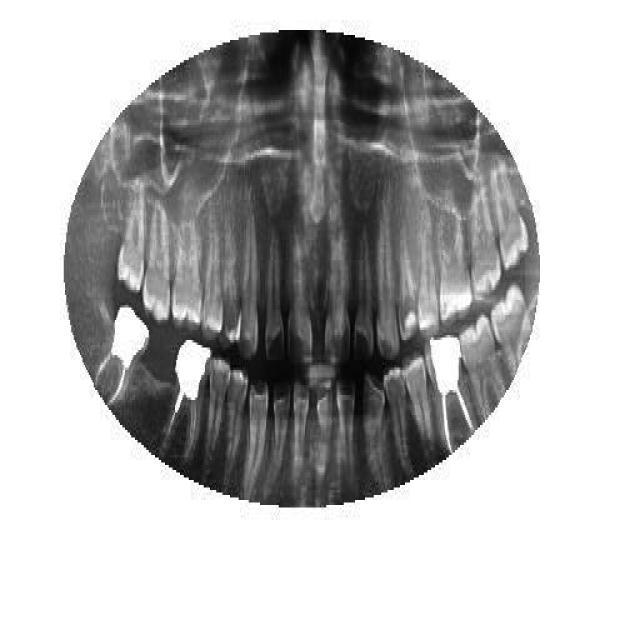dentin-curugu: (260, 323, 286, 363), (365, 377, 380, 417), (355, 326, 372, 353)
dolgu: (100, 291, 154, 374), (422, 324, 470, 406), (169, 329, 212, 403)
kanal-tedavisi: (424, 382, 480, 452), (169, 380, 207, 470), (89, 340, 137, 408)
